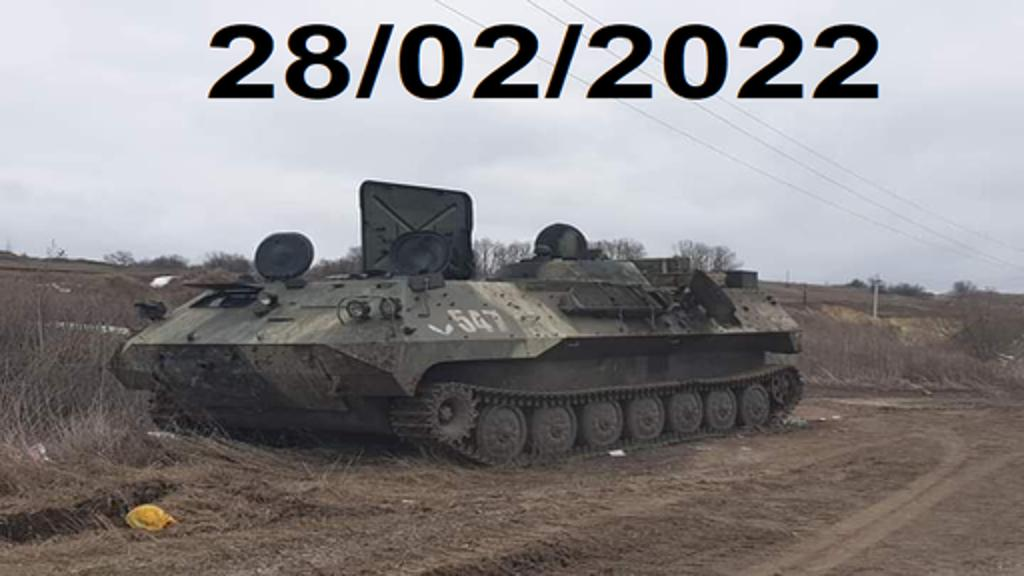APC-IFV: (114, 180, 806, 462)
